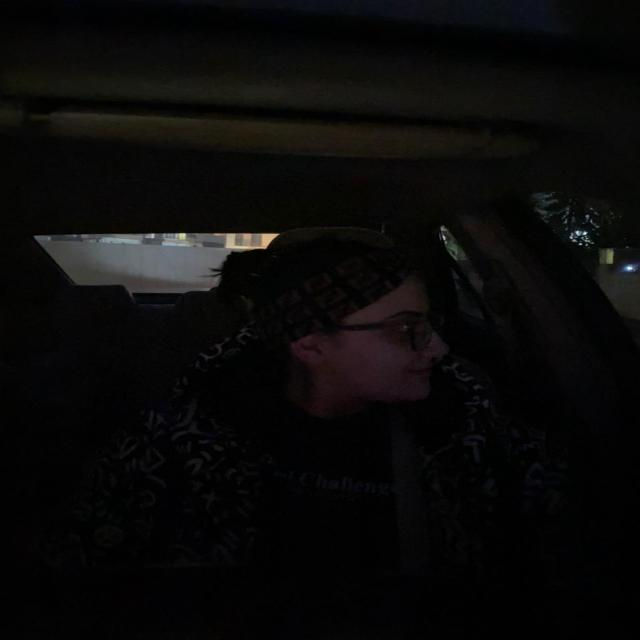LeftRight: (218, 228, 452, 420)
